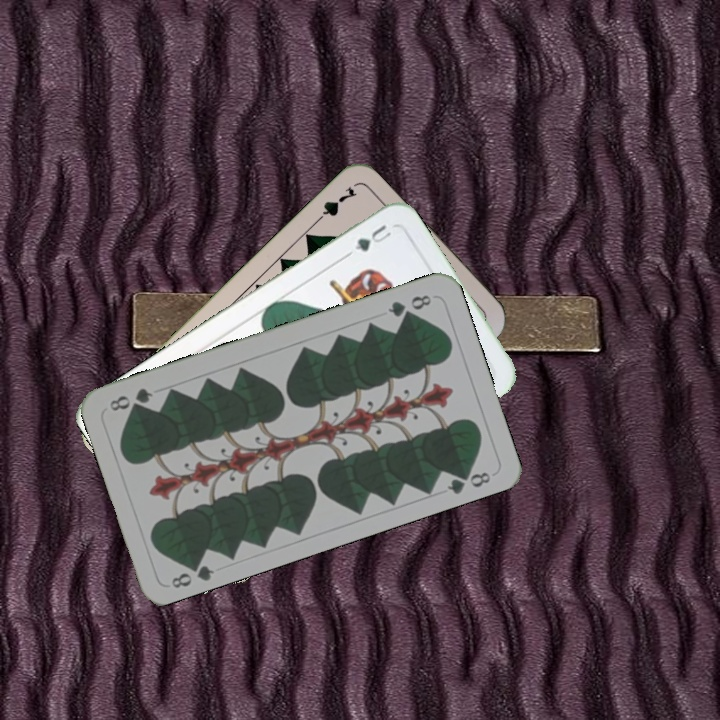G7: (309, 182, 360, 228)
G8: (167, 555, 217, 591), (383, 290, 434, 320)
GU: (350, 220, 394, 255)
